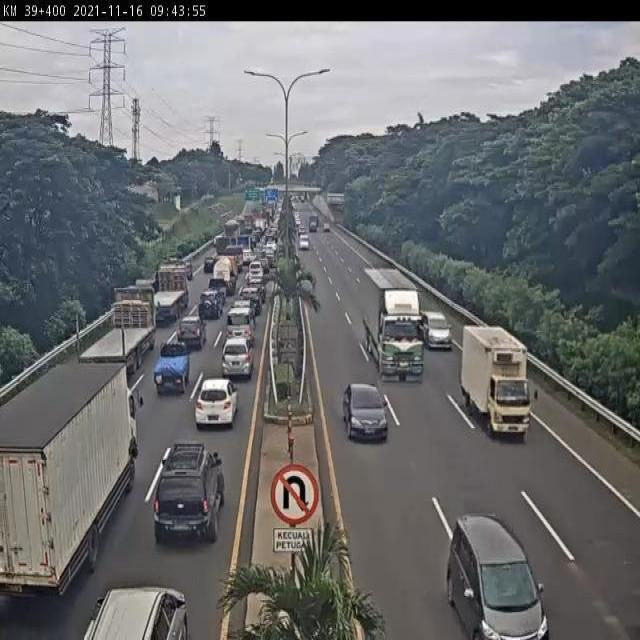car: (447, 514, 548, 640), (154, 442, 229, 546), (344, 381, 391, 444), (195, 379, 239, 429), (151, 344, 190, 397), (222, 337, 255, 383), (228, 307, 257, 347), (177, 319, 205, 352), (199, 291, 222, 321)
truck: (0, 360, 141, 603), (460, 323, 539, 441), (69, 288, 152, 383), (361, 271, 425, 381), (147, 264, 193, 324)
